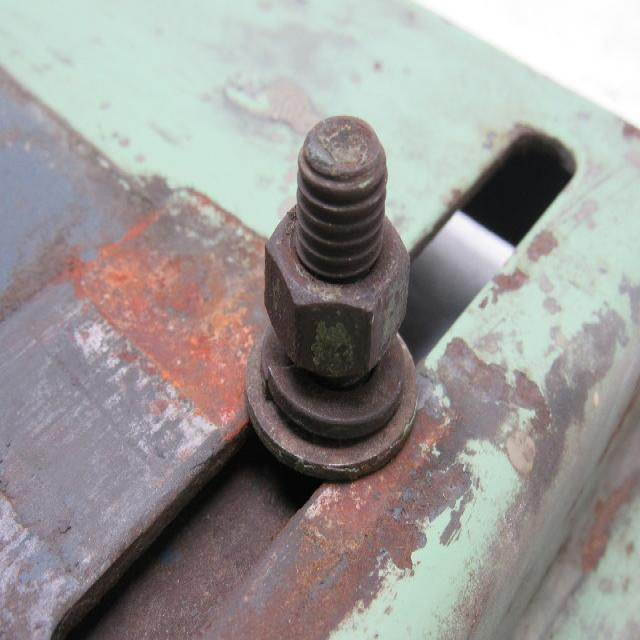bolt nut: (263, 196, 411, 381)
